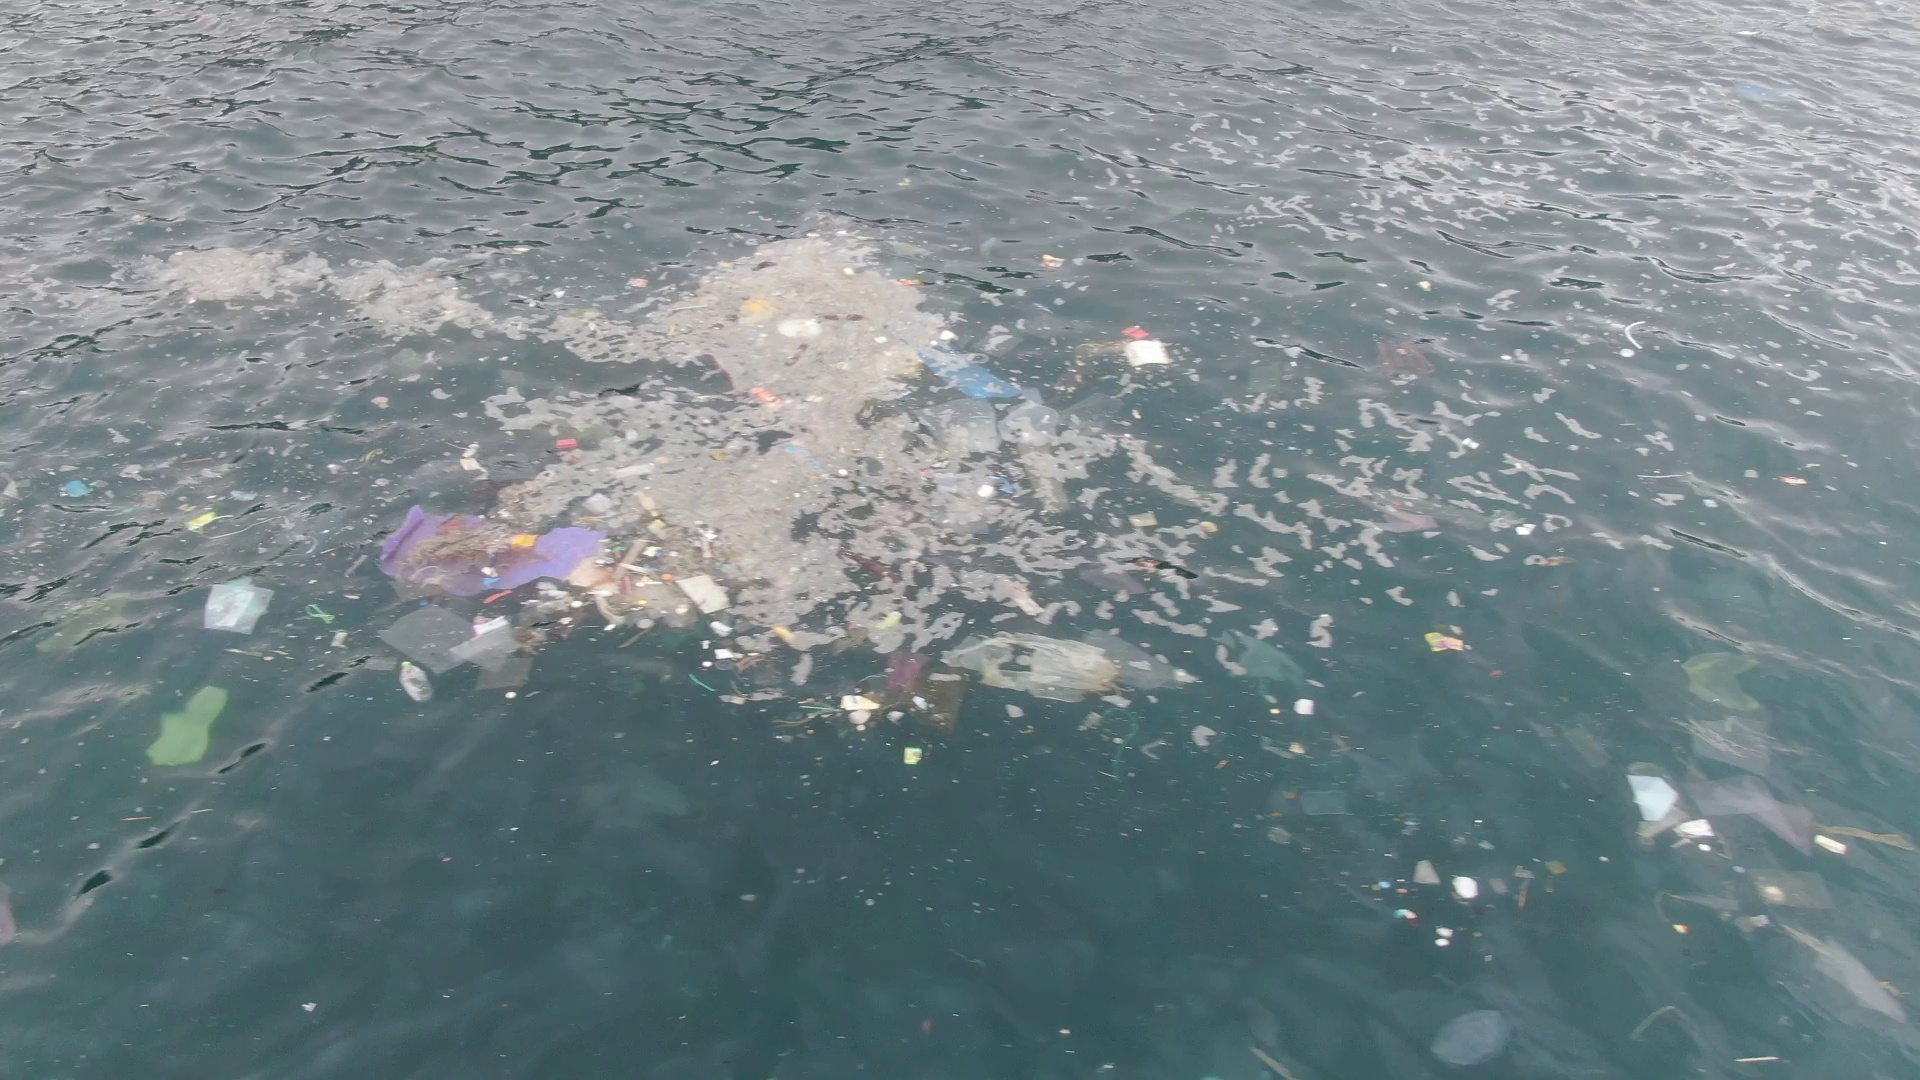bottle: (398, 657, 434, 705)
garbage: (1629, 651, 1909, 1026), (384, 504, 800, 651), (698, 651, 973, 737), (942, 630, 1200, 703), (146, 679, 229, 771), (916, 351, 1040, 402), (1213, 628, 1307, 686), (203, 575, 276, 636), (1075, 322, 1171, 367), (1429, 1011, 1509, 1065), (738, 382, 828, 415), (843, 550, 905, 584), (1377, 342, 1436, 376), (181, 506, 239, 541), (477, 655, 535, 688), (54, 477, 96, 502), (774, 316, 823, 338), (459, 454, 491, 483), (1412, 857, 1441, 886), (1422, 632, 1464, 651), (303, 601, 340, 624), (1453, 876, 1480, 898), (1039, 252, 1065, 270), (1127, 512, 1159, 526), (905, 746, 924, 766), (1292, 696, 1313, 713), (554, 436, 580, 450), (622, 274, 649, 287), (1390, 907, 1418, 919), (894, 273, 918, 286), (1436, 926, 1452, 944), (1199, 520, 1220, 533)
